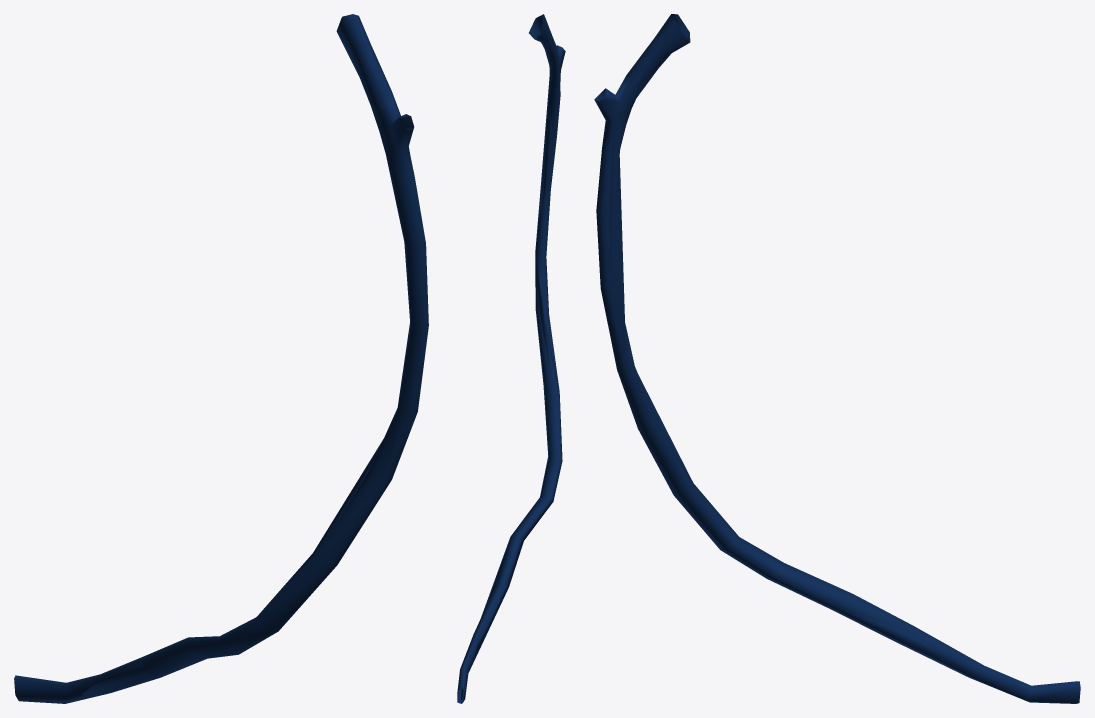
The model's file is R vena radialis.fbx.
3 views of the same model, side by side, from view 1: azimuth 30°, elevation 25°; view 2: azimuth 150°, elevation 25°; view 3: azimuth 270°, elevation 25° (orthographic). The views are drawn at different scales.
Visible parts, largest first — view 1: R vena radialis, R vena radialis low; view 2: R vena radialis, R vena radialis low; view 3: R vena radialis, R vena radialis low.
Boxes of the visible parts, x1=… form: R vena radialis: x1=14, y1=14, x2=428, y2=703; R vena radialis low: x1=66, y1=15, x2=427, y2=703; R vena radialis: x1=457, y1=17, x2=565, y2=703; R vena radialis low: x1=461, y1=14, x2=563, y2=702; R vena radialis: x1=594, y1=14, x2=1080, y2=703; R vena radialis low: x1=596, y1=15, x2=1052, y2=702.
Bounding box in the file's own units: 1.66 × 8.78 × 5.26.
